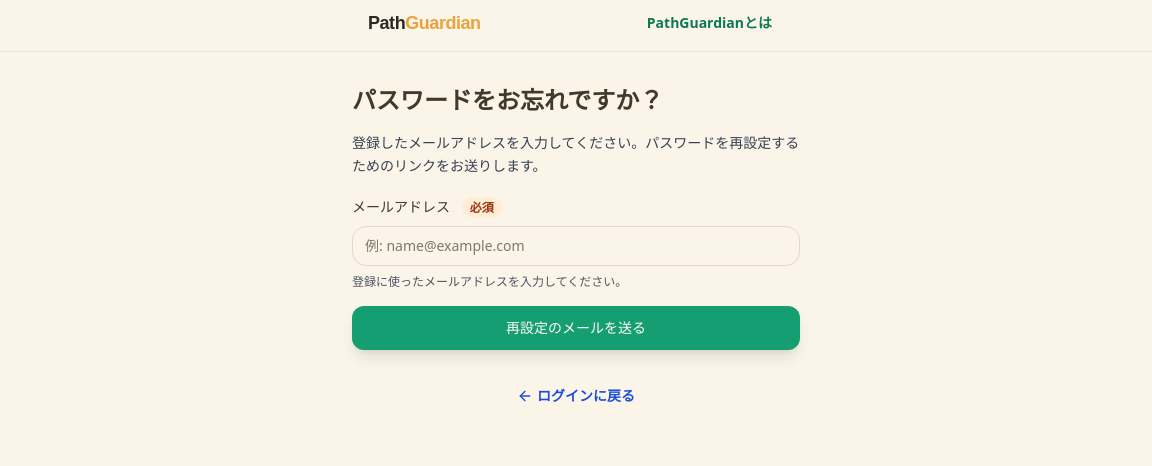
Test case: ForgotPasswordPage › shows a concrete inline format error and focuses the email field
Type "ux-test-invalid" into the field with test id "forgot-password-email".
click(576, 246); type("ux-test-invalid")  # box [352,226,800,266]
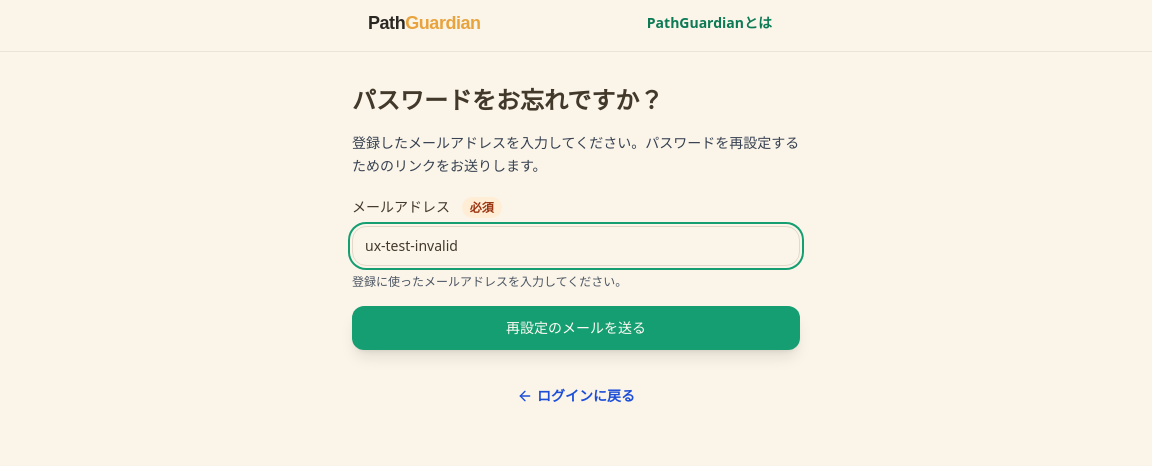
Click the button with test id "forgot-password-submit".
click(576, 328)  # box [352,306,800,350]
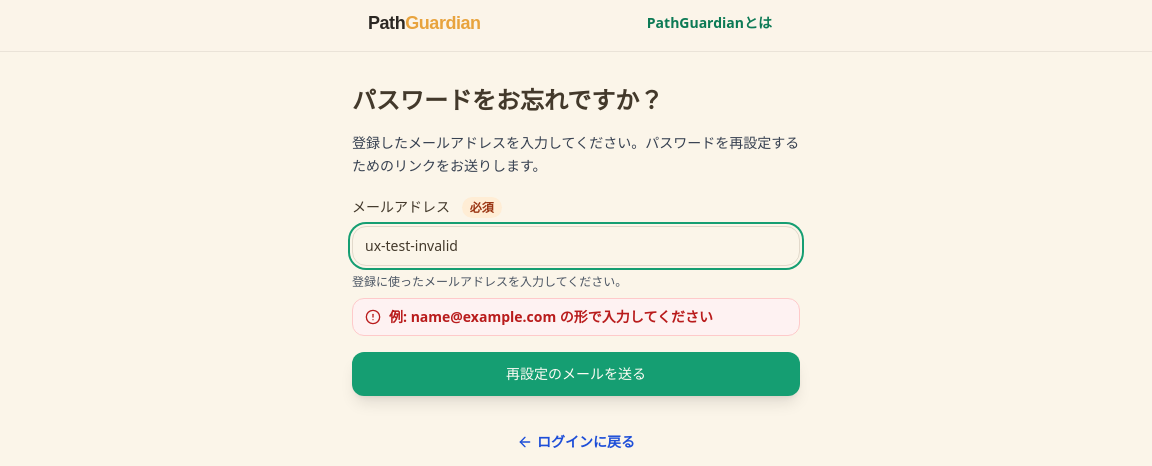
Now the message shows "例: name@example.com", box [389,306,713,326]
